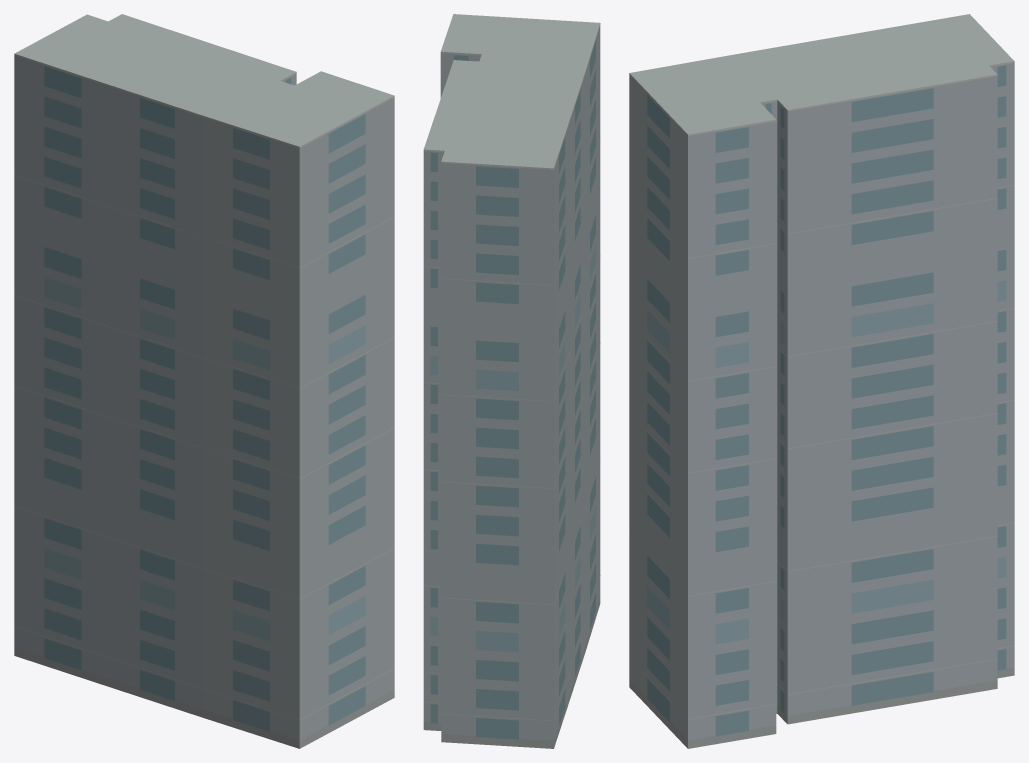
Rendered from residential-980cf7f8-4791-4973-a082-ef86faf9e9d0.glb.
The picture shows the model from 3 angles, left to right: view 1: azimuth 30°, elevation 25°; view 2: azimuth 150°, elevation 25°; view 3: azimuth 270°, elevation 25°; orthographic projection. The views are drawn at different scales.
Parts seen in each view (by area): view 1: residential-980cf7f8-4791-4973-a082-ef86faf9e9d0.tmp; view 2: residential-980cf7f8-4791-4973-a082-ef86faf9e9d0.tmp; view 3: residential-980cf7f8-4791-4973-a082-ef86faf9e9d0.tmp.
Part boxes in pixels (x1,y1,x2,y2): residential-980cf7f8-4791-4973-a082-ef86faf9e9d0.tmp: (14, 14, 394, 748); residential-980cf7f8-4791-4973-a082-ef86faf9e9d0.tmp: (423, 14, 600, 748); residential-980cf7f8-4791-4973-a082-ef86faf9e9d0.tmp: (629, 14, 1014, 748).
Bounding box in the file's own units: 37.92 × 90 × 51.17.
